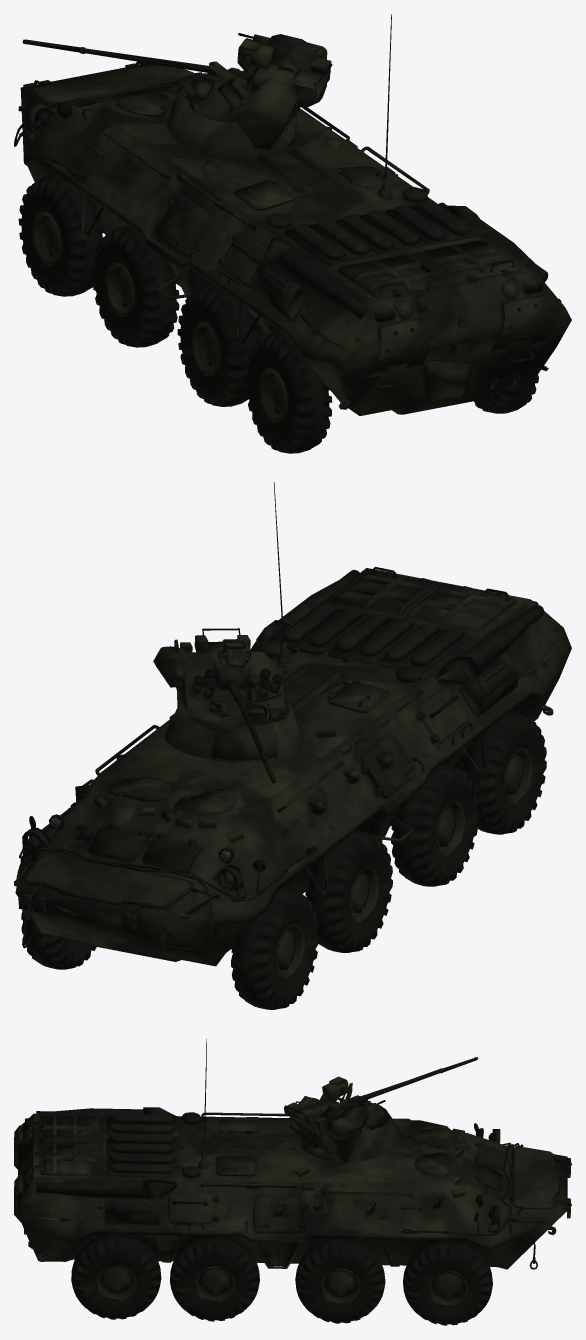
The model's file is btr-wreck.glb.
3 renders of one model, top to bottom at view 1: azimuth 30°, elevation 25°; view 2: azimuth 150°, elevation 25°; view 3: azimuth 270°, elevation 25°, orthographic. The views are drawn at different scales.
Visible parts, largest first — view 1: hull, turret, barrel; view 2: hull, turret; view 3: hull, turret, barrel.
Part boxes in pixels (x1,y1,x2,y2): hull: [14, 14, 571, 453]; turret: [165, 33, 332, 158]; barrel: [22, 39, 209, 72]; hull: [14, 482, 571, 1009]; turret: [153, 628, 303, 762]; hull: [14, 1038, 571, 1325]; turret: [284, 1076, 400, 1163]; barrel: [365, 1057, 477, 1098].
Size of the model in its own units: 2.9 by 4.08 by 7.65.
1 material, 1 textured.
